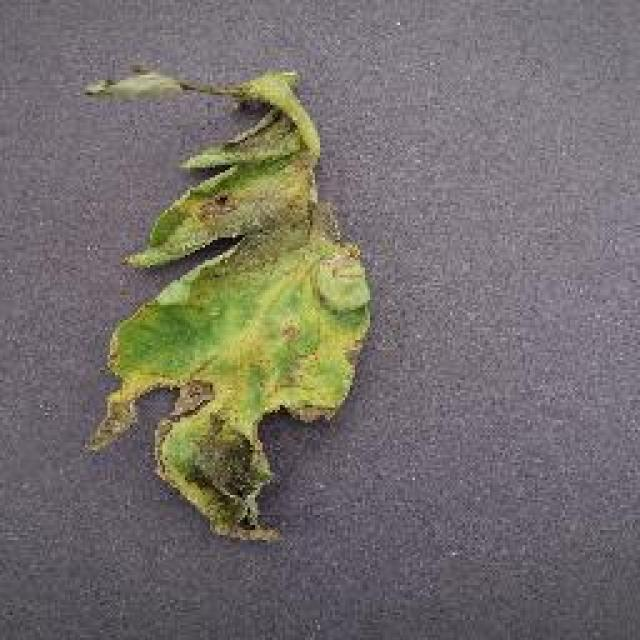Tomato Late Blight: (184, 66, 324, 592)
